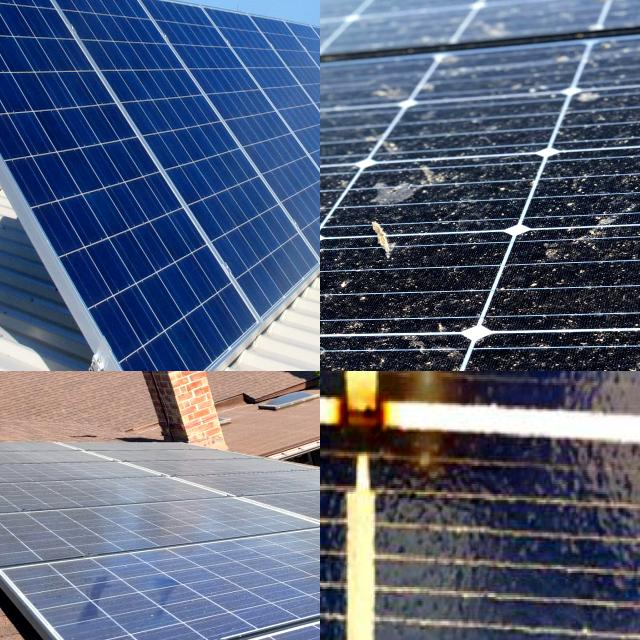bird: (332, 156, 470, 261), (350, 66, 466, 118)
crack: (150, 46, 244, 153), (90, 12, 180, 96), (194, 140, 269, 238), (23, 85, 82, 169), (270, 83, 320, 168), (116, 166, 176, 236), (3, 96, 57, 170), (58, 184, 111, 258), (135, 310, 199, 371), (197, 286, 251, 358), (54, 90, 104, 163), (108, 221, 158, 293), (169, 303, 220, 371), (77, 96, 126, 165), (99, 138, 150, 200), (120, 281, 164, 350), (89, 173, 130, 246), (34, 148, 83, 208), (132, 223, 174, 284), (15, 60, 55, 124), (150, 212, 193, 268), (0, 62, 37, 125), (0, 63, 32, 132), (304, 62, 320, 168), (109, 347, 178, 371), (0, 0, 21, 44)
dust: (72, 562, 320, 602)
shadow: (320, 371, 465, 498)
